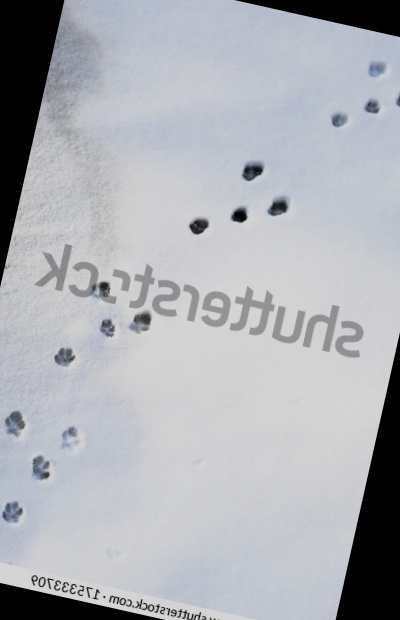rabbit: (157, 139, 316, 286)
